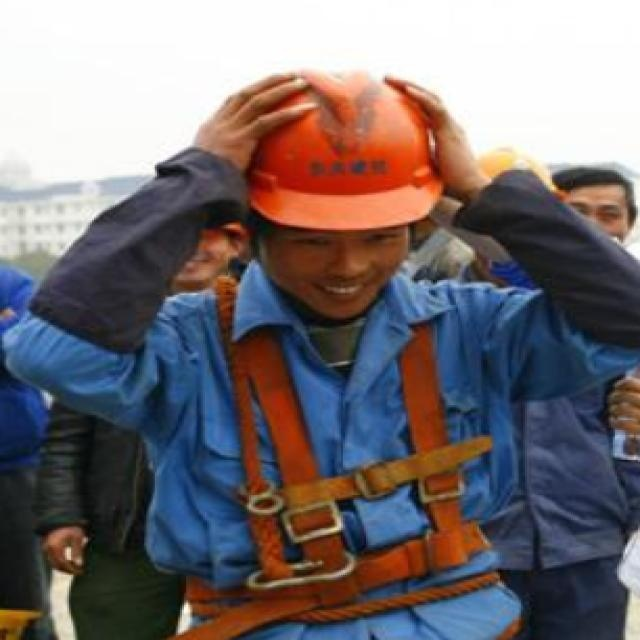Arnes_seguridad: (199, 270, 506, 612)
